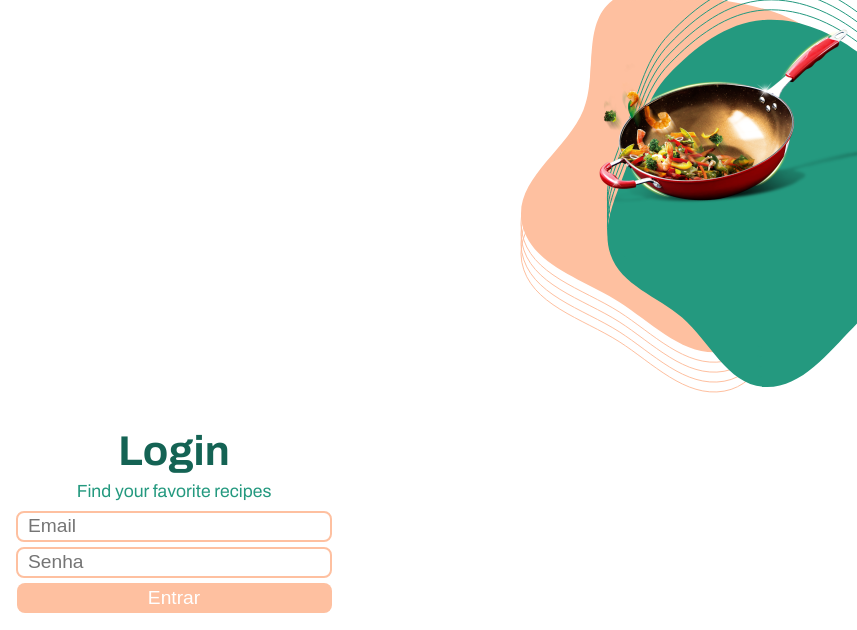
Test: O formulário só fica válido após um email válido e uma senha de mais de 6 caracteres serem preenchidos. Caso o formulário esteja inválido, o botão de submeter d › O botão deve estar ativado se o email e a senha forem válidos.
Type "teste@teste.com" into the field with test id "email-input" at (174, 526), box 16,511 -> 332,542
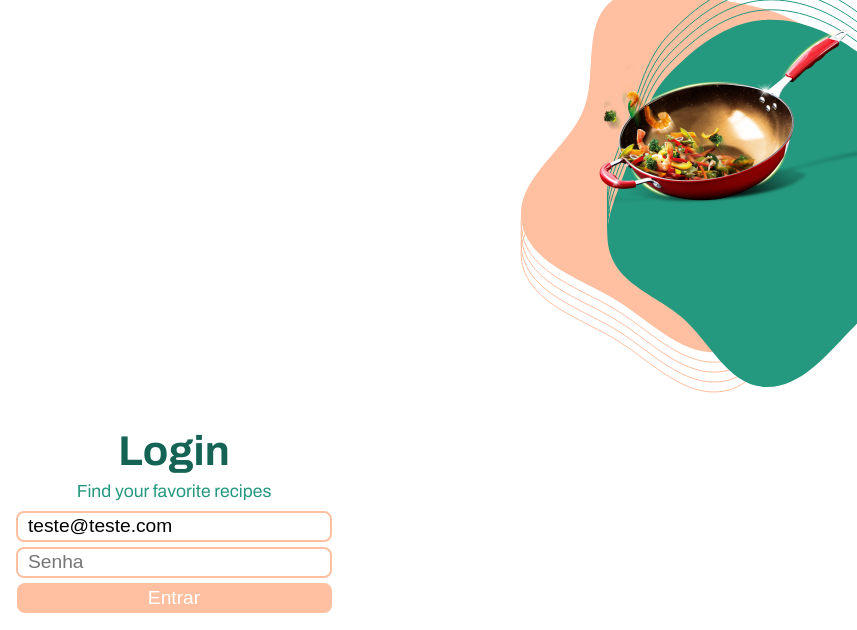
Type "1234567" into the password field with test id "password-input" at (174, 562), box 16,547 -> 332,578
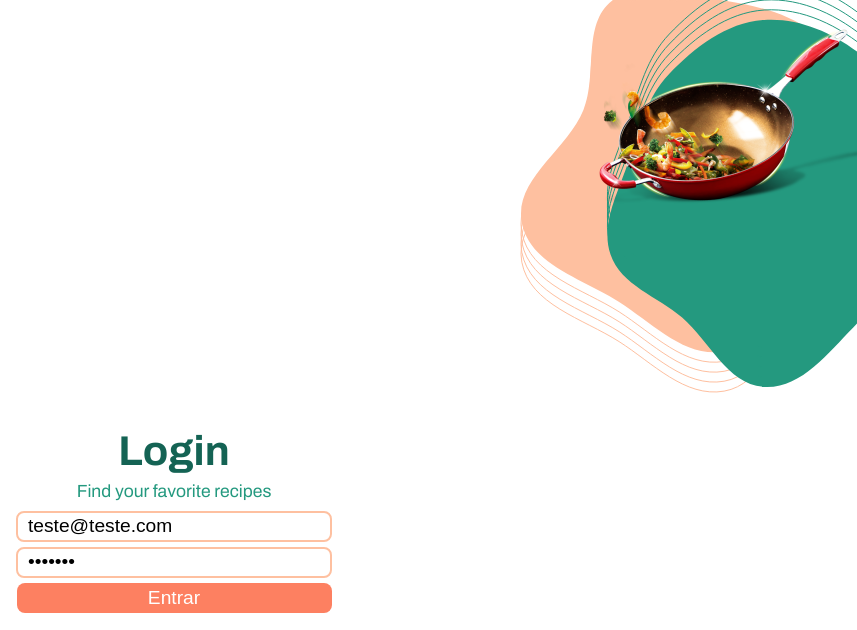
Result: the button with test id "login-submit-btn" is enabled at 16,583 -> 332,613
